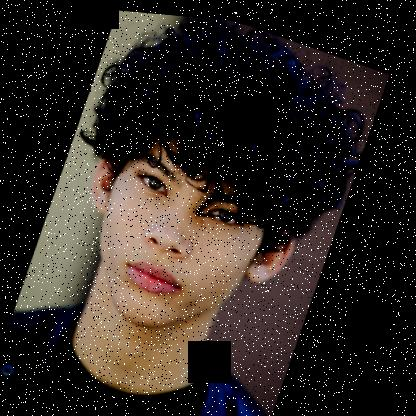Male: (54, 115, 316, 361)
